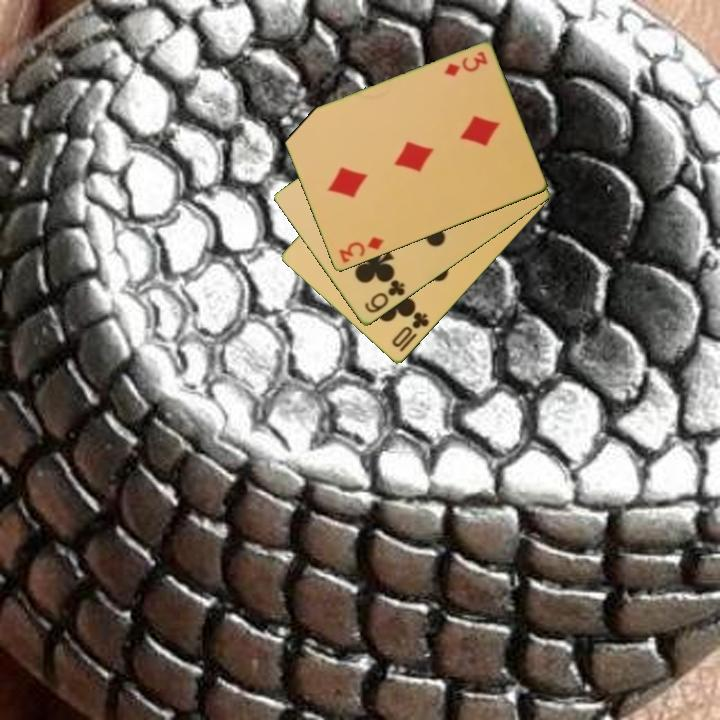10c: (388, 309, 432, 351)
3d: (335, 234, 386, 266), (441, 48, 490, 80)
6c: (361, 276, 408, 316)
